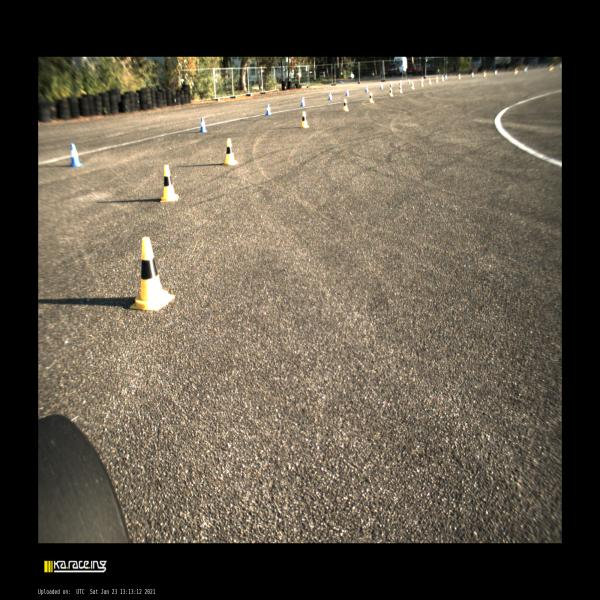blue_cone: (69, 143, 84, 167), (199, 117, 208, 133), (300, 96, 306, 106), (266, 104, 271, 115), (328, 91, 333, 100), (346, 88, 350, 96), (365, 85, 369, 93), (380, 82, 383, 89), (559, 63, 562, 69), (399, 80, 402, 85), (421, 77, 424, 82), (471, 72, 474, 77), (524, 67, 527, 72), (390, 81, 392, 87), (408, 78, 410, 84), (445, 74, 447, 80), (494, 70, 496, 75)
yellow_cone: (130, 236, 175, 310), (160, 164, 179, 202), (223, 137, 238, 165), (300, 110, 310, 128), (343, 98, 349, 112), (369, 92, 374, 103), (389, 87, 393, 96), (398, 85, 402, 93), (410, 82, 414, 89), (514, 67, 518, 74), (420, 81, 423, 87), (428, 78, 431, 84), (441, 75, 444, 81), (458, 73, 461, 79), (550, 64, 552, 71), (436, 76, 438, 82), (484, 71, 486, 77)
